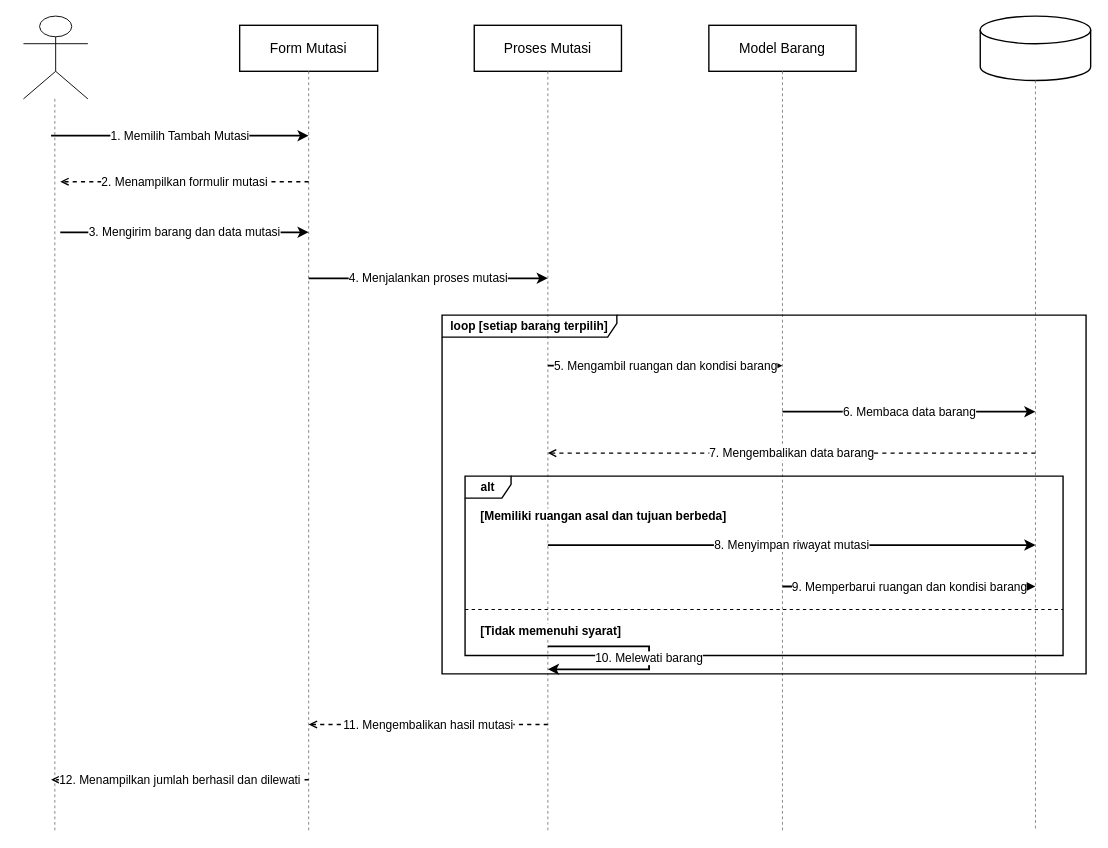
Image size: 1108x848. Some labels were removed from this diagram. Here are the shapes that lost their labels. From the top down, the centre of each, then its label:
At [55,57]: "Admin / Staff".
At [1035,48]: "Database".
